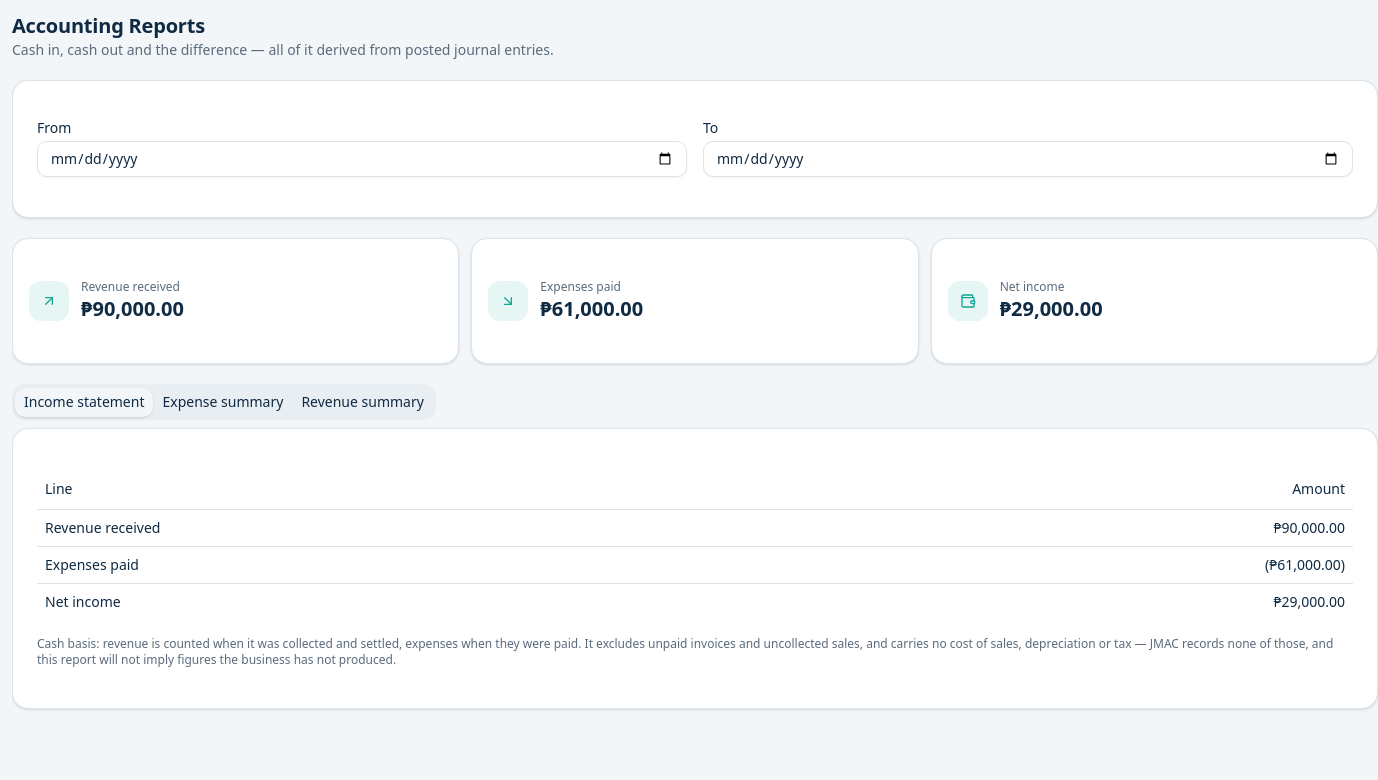
Test: AccountingReportsPage › breaks expenses down by account
Press the mouse on the tab "Expense summary": (223, 402) [154,388,292,416]
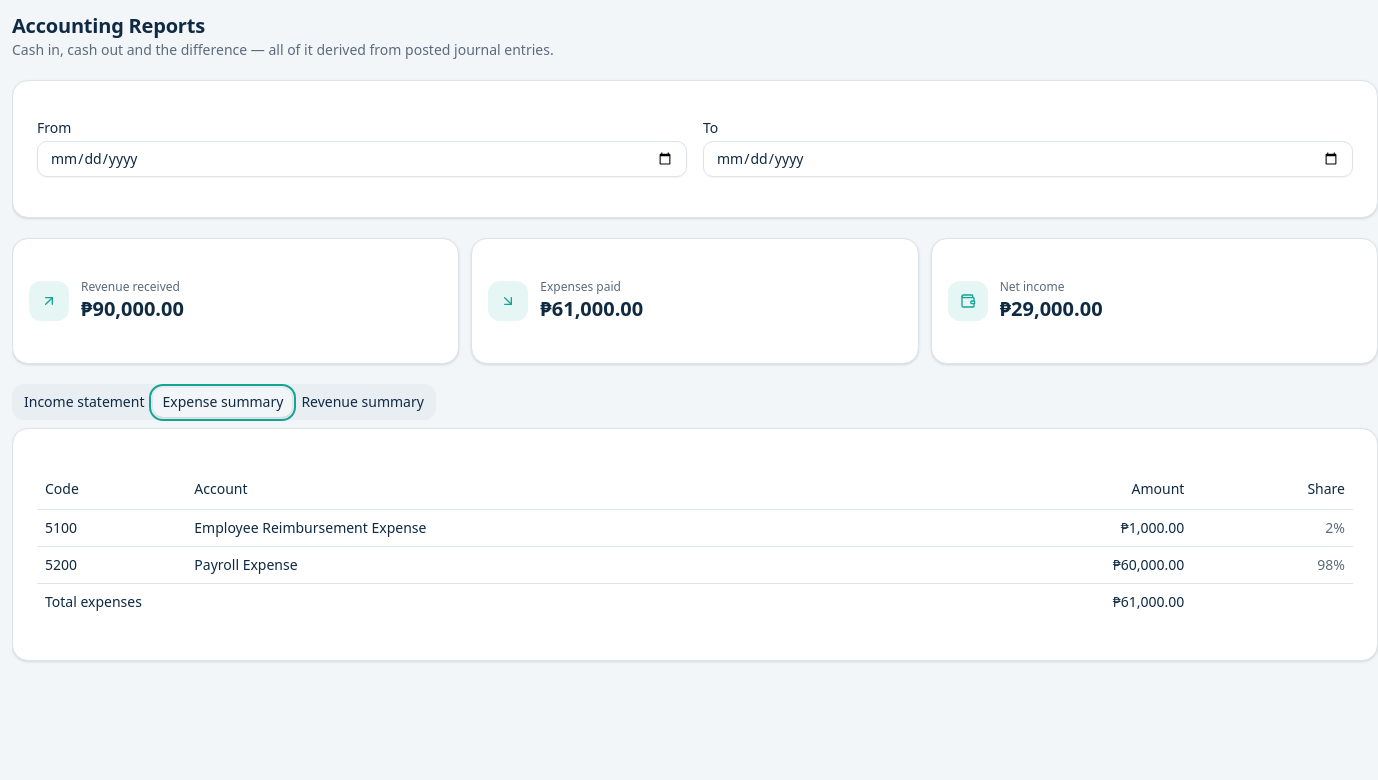
Expected: the cell "₱61,000.00" is shown, [930,583,1192,620]
Now the cell "₱60,000.00" is shown, box [930,546,1192,583]
